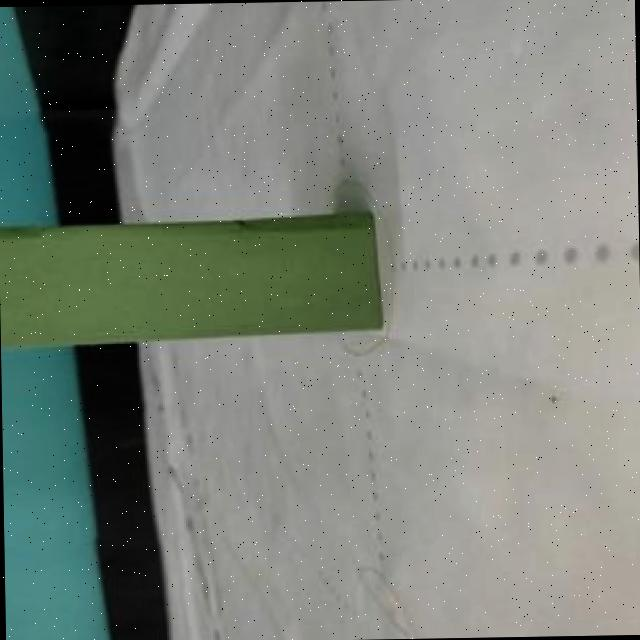greenbox: (0, 207, 383, 350)
